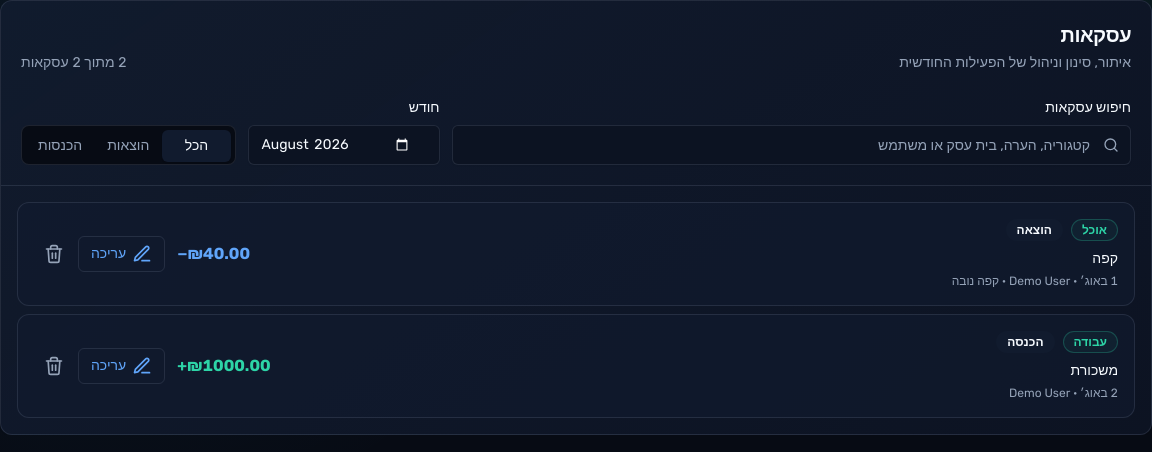
filters transactions with free-text search
Type "קפה" into the search field labelled "חיפוש עסקאות" at (791, 145), box x1=452 y1=125 x2=1131 y2=165
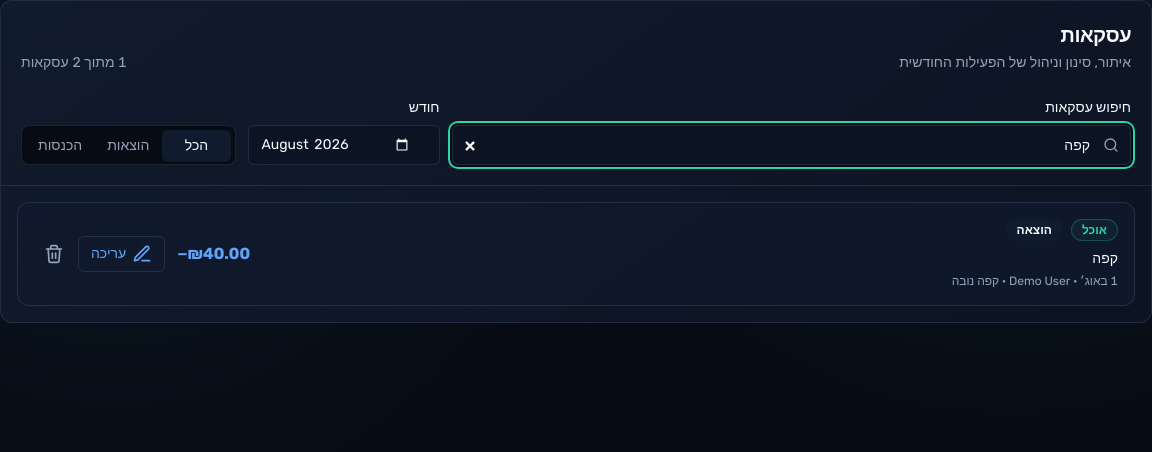
Expected: the text "קפה" is shown, x1=1092 y1=250 x2=1118 y2=267
Expected: the text "משכורת" is gone
